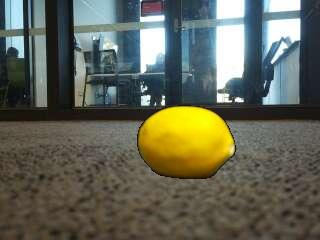lemon: (141, 108, 237, 178)
